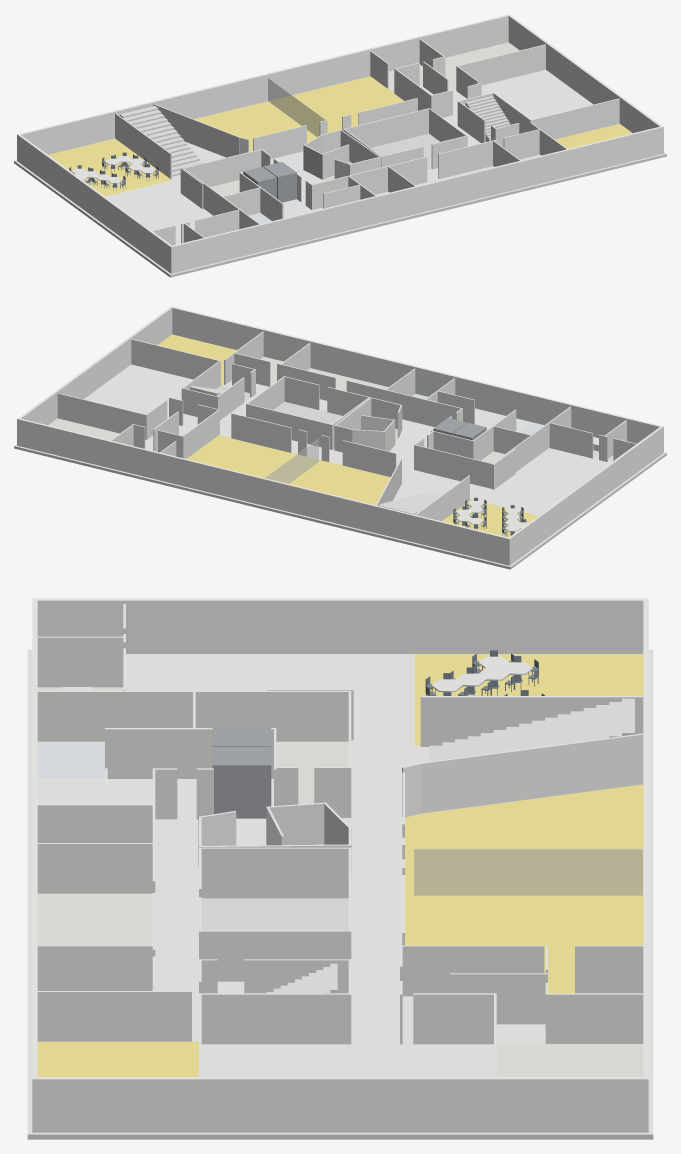
Rendered from event-floor.glb.
3 renders of one model, top to bottom at view 1: azimuth 30°, elevation 25°; view 2: azimuth 150°, elevation 25°; view 3: azimuth 270°, elevation 25°, orthographic. The views are drawn at different scales.
Parts seen in each view (by area): view 1: Event floor - walls & stairs, Event floor, Event hall B floor, Open event area floor, Event hall A floor, Event floor - furniture, Room floor, Digital Learning Studio floor, A.H.U. room floor; view 2: Event floor - walls & stairs, Event floor, Event hall B floor, Event hall A floor, Event floor - furniture, Digital Learning Studio floor, Open event area floor, Room floor (×2), A.H.U. room floor; view 3: Event floor - walls & stairs, Event floor, Event hall A floor, Event hall B floor, Room floor (×2), Open event area floor, Digital Learning Studio floor, A.H.U. room floor, Event floor - furniture, Male lavatory floor, Multi-purpose room 1 floor.
Boxes of the visible parts, bbox=[...] form: Event floor - walls & stairs: bbox=[17, 14, 663, 273]; Event floor: bbox=[14, 70, 666, 277]; Event hall B floor: bbox=[269, 76, 403, 136]; Open event area floor: bbox=[48, 138, 171, 196]; Event hall A floor: bbox=[194, 101, 317, 151]; Event floor - furniture: bbox=[69, 152, 158, 190]; Room floor: bbox=[445, 42, 519, 89]; Digital Learning Studio floor: bbox=[555, 123, 632, 148]; A.H.U. room floor: bbox=[371, 133, 439, 170]; Event floor - walls & stairs: bbox=[17, 306, 663, 565]; Event floor: bbox=[14, 364, 666, 569]; Event hall B floor: bbox=[187, 435, 320, 483]; Event hall A floor: bbox=[289, 460, 390, 505]; Event floor - furniture: bbox=[453, 437, 598, 536]; Digital Learning Studio floor: bbox=[158, 334, 236, 385]; Open event area floor: bbox=[442, 499, 538, 537]; Room floor (×2): bbox=[48, 368, 388, 440]; A.H.U. room floor: bbox=[273, 401, 342, 424]; Event floor - walls & stairs: bbox=[32, 598, 648, 1132]; Event floor: bbox=[27, 649, 653, 1139]; Event hall A floor: bbox=[405, 784, 643, 895]; Event hall B floor: bbox=[405, 895, 643, 993]; Room floor (×2): bbox=[37, 893, 643, 1076]; Open event area floor: bbox=[414, 654, 643, 745]; Digital Learning Studio floor: bbox=[37, 1041, 198, 1076]; A.H.U. room floor: bbox=[201, 898, 348, 930]; Event floor - furniture: bbox=[62, 650, 545, 695]; Male lavatory floor: bbox=[37, 741, 104, 778]; Multi-purpose room 1 floor: bbox=[276, 741, 348, 804].
Bounding box in the file's own units: 62.48 × 3.5 × 34.08.
